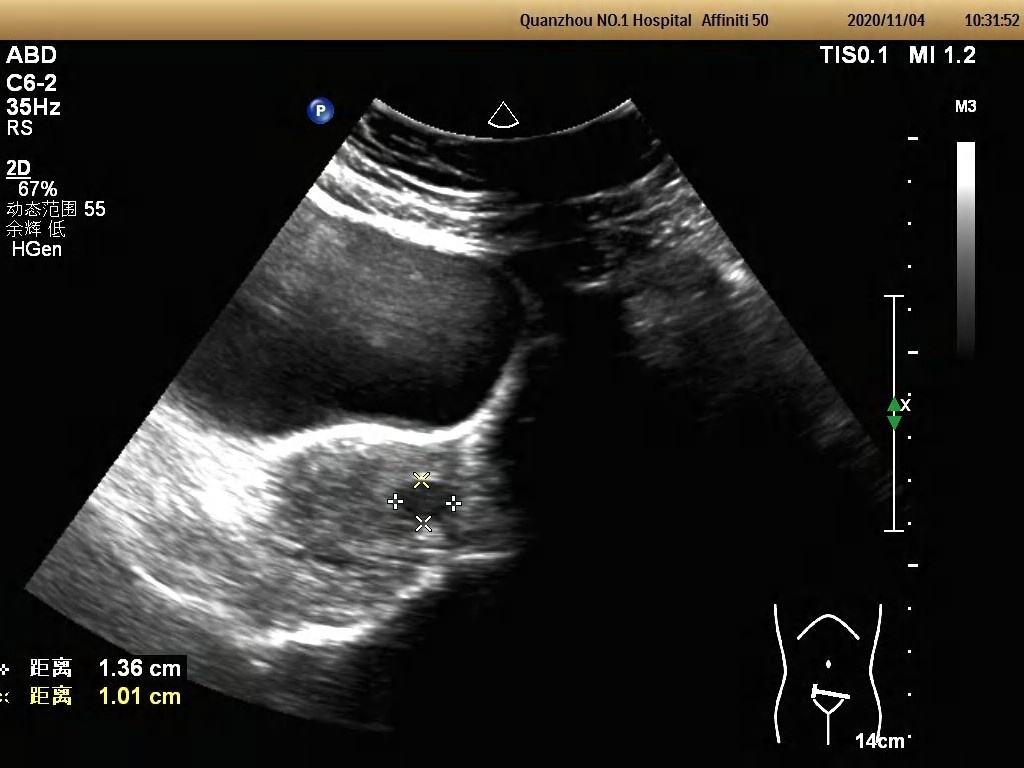肌瘤: (396, 480, 454, 525)
